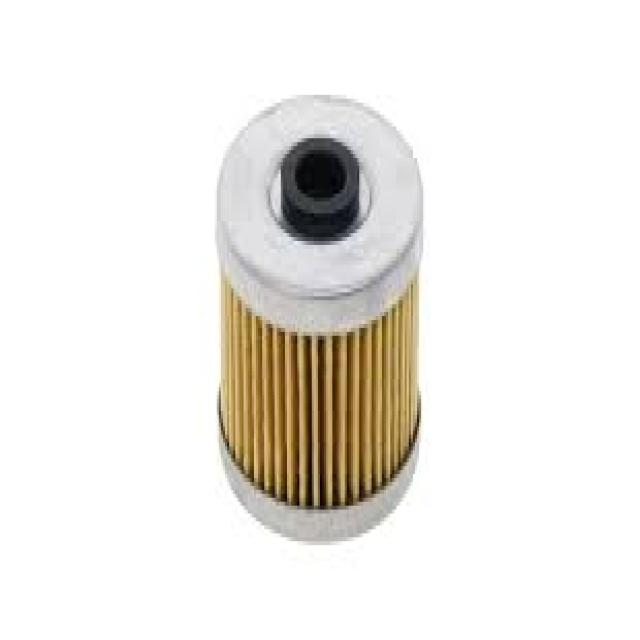oil_filter: (210, 81, 428, 558)
